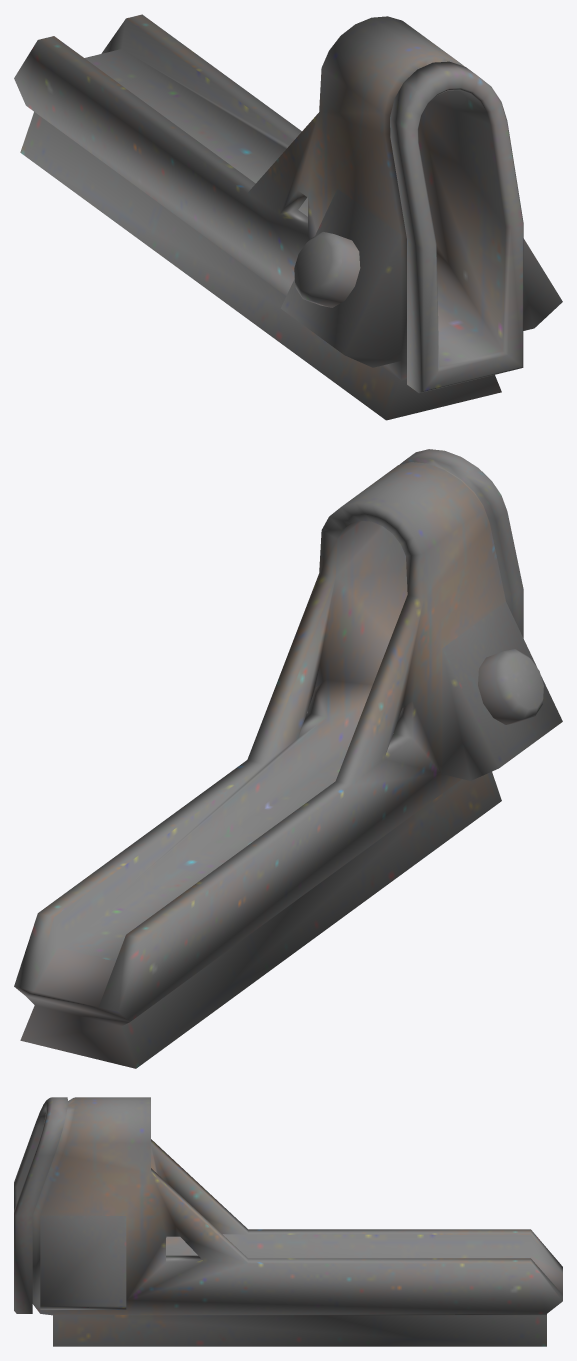
Rendered from sight2.obj.
3 renders of one model, top to bottom at view 1: azimuth 30°, elevation 25°; view 2: azimuth 150°, elevation 25°; view 3: azimuth 270°, elevation 25°, orthographic. The views are drawn at different scales.
Visible parts, largest first — view 1: sight2; view 2: sight2; view 3: sight2.
Boxes of the visible parts, bbox=[...] form: sight2: bbox=[14, 14, 562, 420]; sight2: bbox=[14, 449, 562, 1068]; sight2: bbox=[14, 1097, 562, 1346].
Size of the model in its own units: 5.39 by 7.59 by 16.68.
